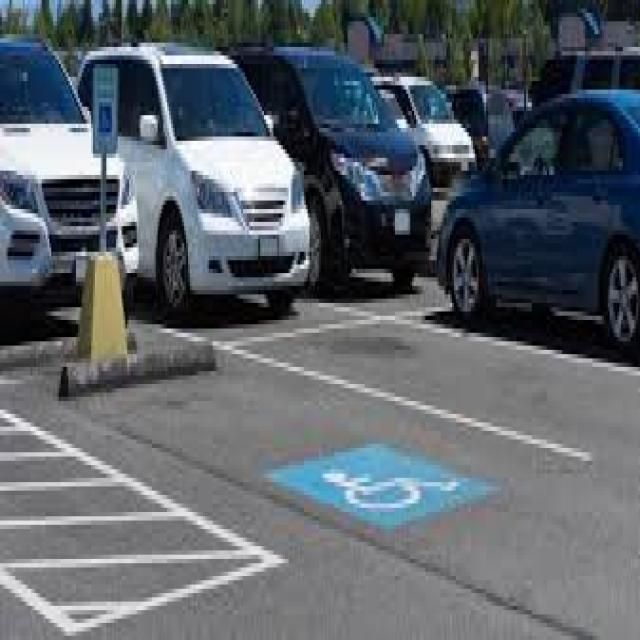car-handicap-placard: (322, 458, 461, 513), (100, 102, 110, 134)
